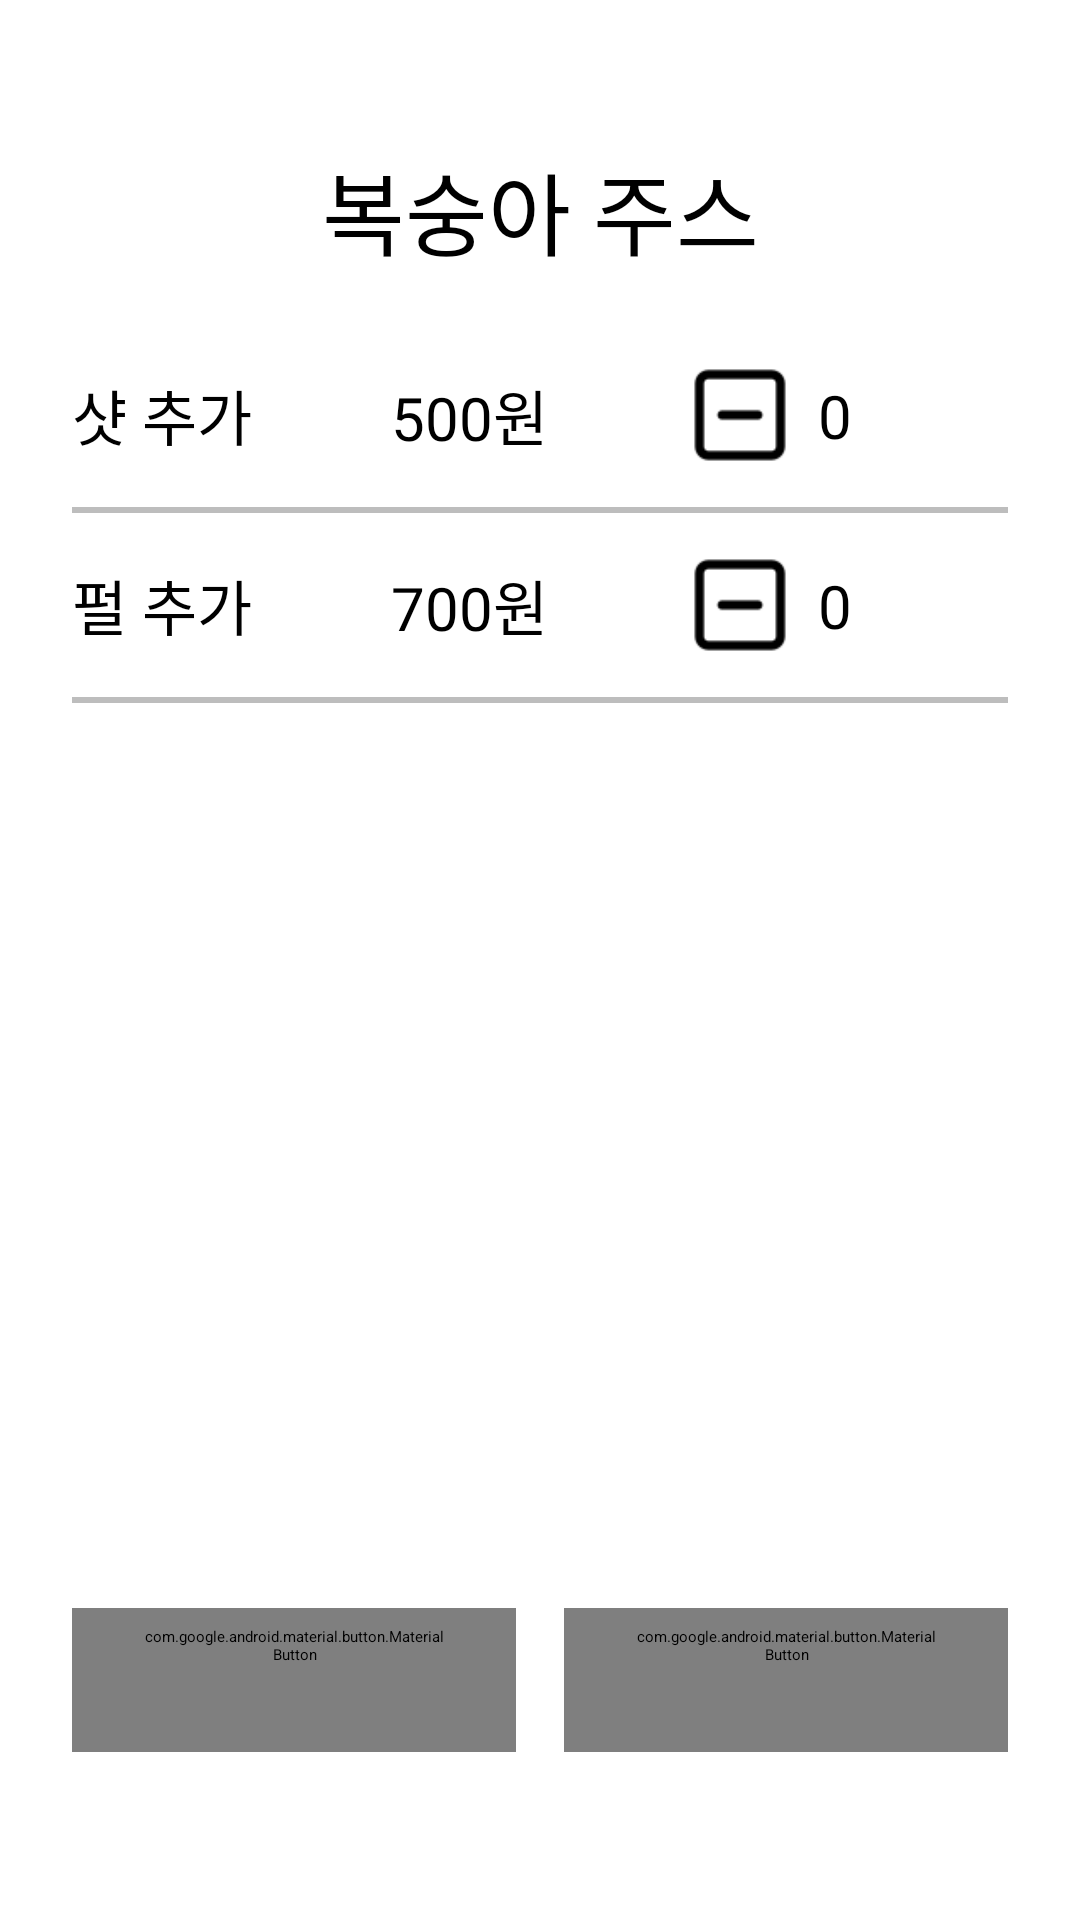

Point at icon controls on the screen. Image size 1080px x 1920px, points as [x,y].
square minus: [740,415], [740,605]
